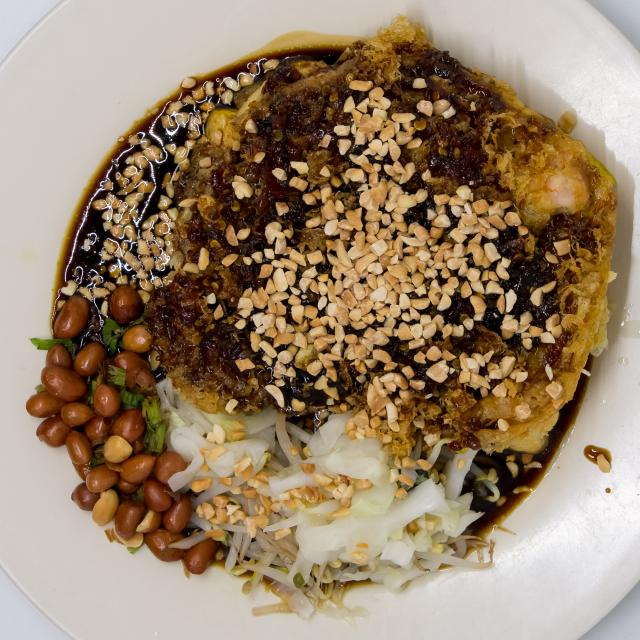Tahu-Telur: (19, 34, 623, 598)
